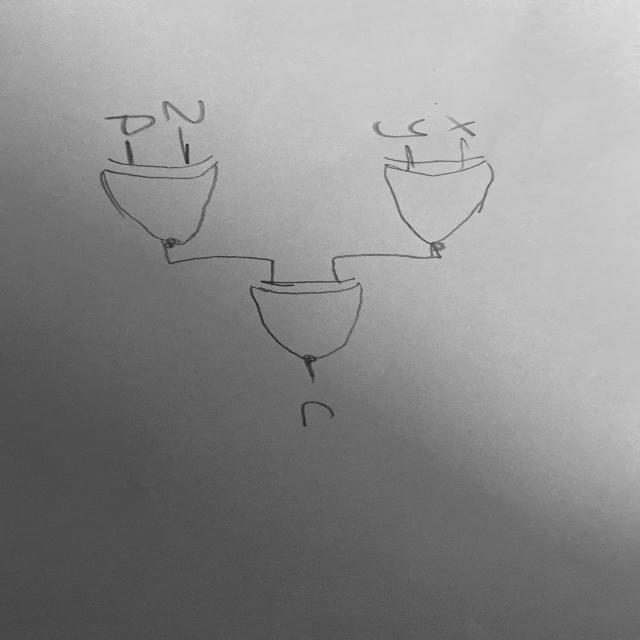XNOR: (364, 148, 546, 252), (89, 149, 257, 252), (233, 274, 408, 371)
